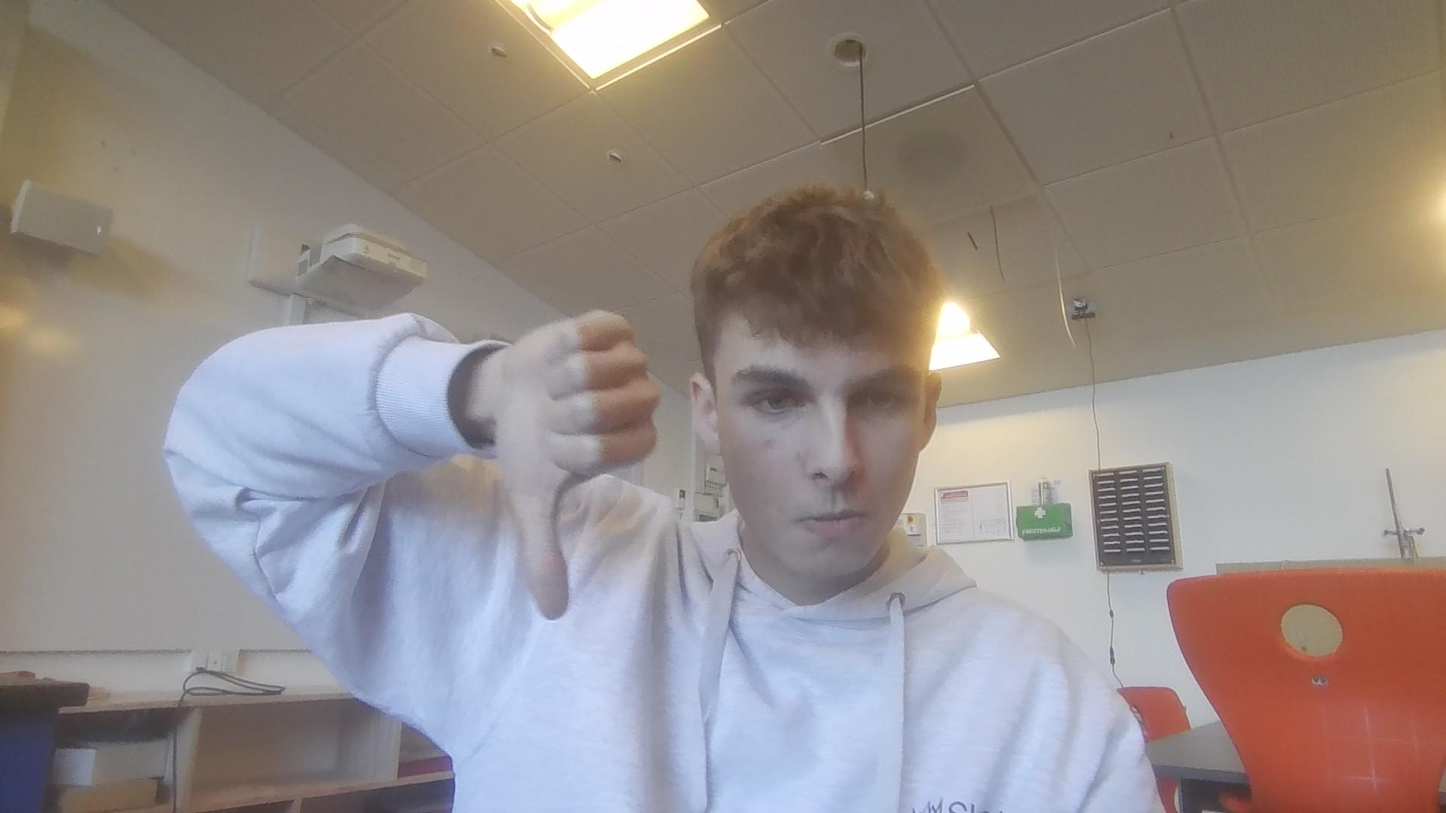thumbs down: (497, 311, 674, 627)
